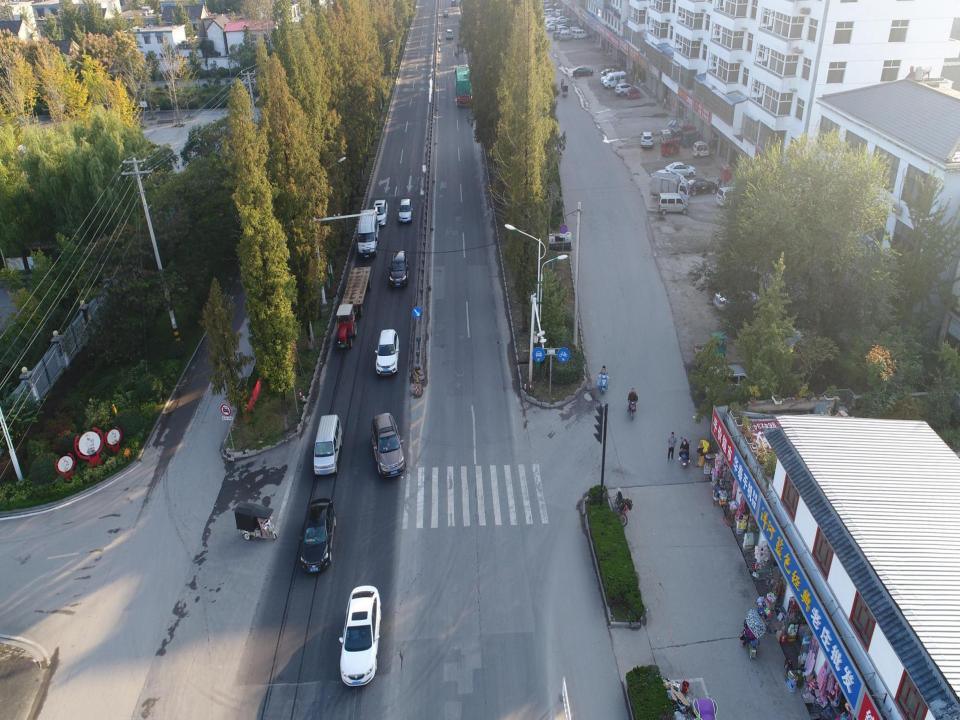car: (339, 580, 383, 688), (299, 496, 336, 577), (740, 317, 806, 357), (370, 410, 409, 476), (711, 283, 763, 313), (371, 324, 400, 376), (650, 167, 686, 189), (389, 248, 408, 288), (687, 176, 719, 195), (664, 161, 697, 178), (370, 198, 389, 224), (396, 198, 414, 222), (614, 83, 638, 96), (639, 130, 654, 148), (600, 71, 620, 84), (572, 66, 594, 77), (601, 66, 618, 76), (552, 29, 564, 41), (559, 23, 572, 33), (555, 16, 571, 24), (445, 26, 454, 40), (545, 23, 559, 32), (545, 3, 556, 12), (546, 20, 558, 27), (442, 8, 448, 18), (451, 0, 457, 7)
truck: (454, 60, 472, 108)
van: (695, 361, 753, 398), (313, 410, 343, 472), (357, 208, 382, 254), (716, 184, 750, 208), (658, 193, 688, 216), (603, 71, 628, 89), (571, 28, 585, 40), (560, 31, 573, 42), (575, 29, 589, 39), (569, 25, 581, 36), (557, 26, 570, 36), (544, 9, 555, 18), (555, 9, 567, 17), (543, 1, 552, 8)
